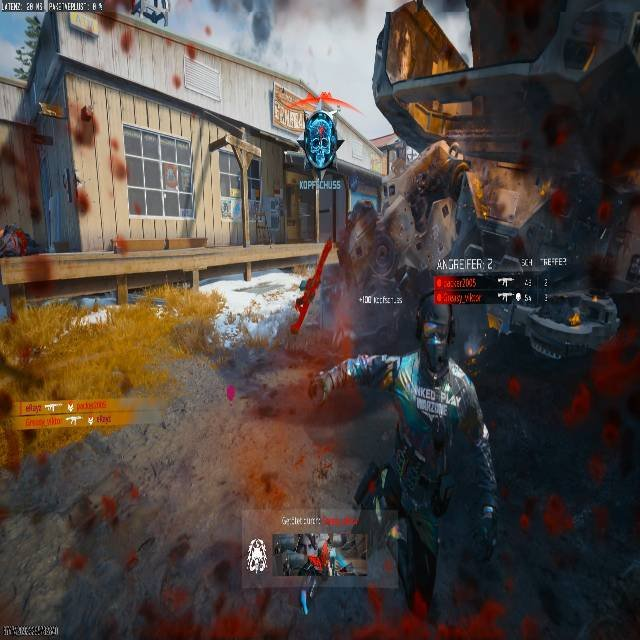player: (290, 18, 640, 630)
